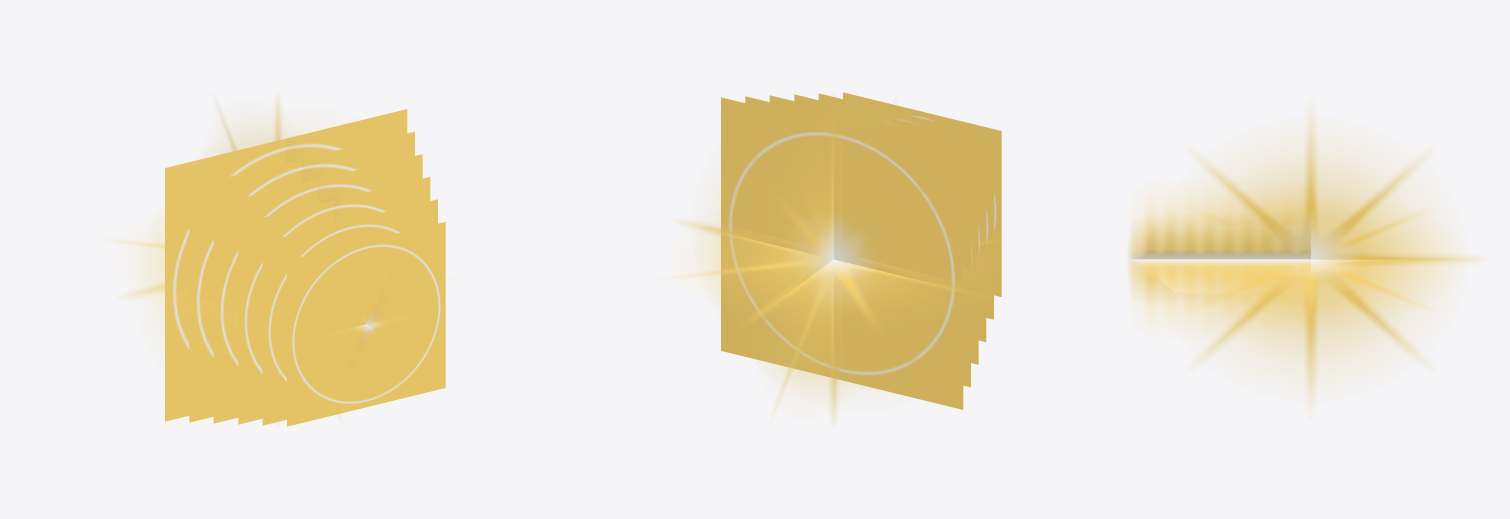
Rendered from fx_kame_max.glb.
The picture shows the model from 3 angles, left to right: view 1: azimuth 30°, elevation 25°; view 2: azimuth 150°, elevation 25°; view 3: azimuth 270°, elevation 25°; orthographic projection. The views are drawn at different scales.
Visible parts, largest first — view 1: fx_ring, fx_orb, fx_beam; view 2: fx_ring, fx_orb; view 3: fx_orb, fx_beam.
Part boxes in pixels (<box>): fx_ring: <box>165,109,445,426</box>; fx_orb: <box>117,98,336,327</box>; fx_beam: <box>330,286,405,364</box>; fx_ring: <box>721,92,1001,409</box>; fx_orb: <box>673,98,994,420</box>; fx_orb: <box>1190,115,1480,403</box>; fx_beam: <box>1127,198,1310,320</box>.
Bounding box in the file's own units: 2 × 2 × 2.
Materials: 3 (3 with a texture image).
